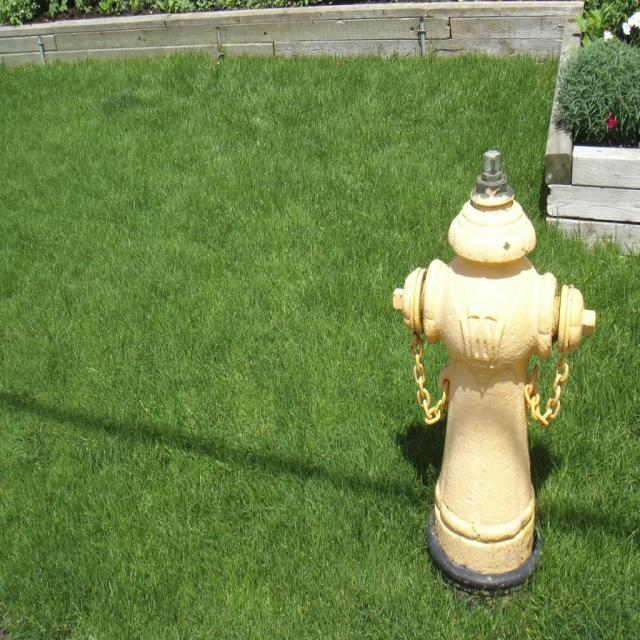fire_hydrant: (386, 152, 605, 605)
